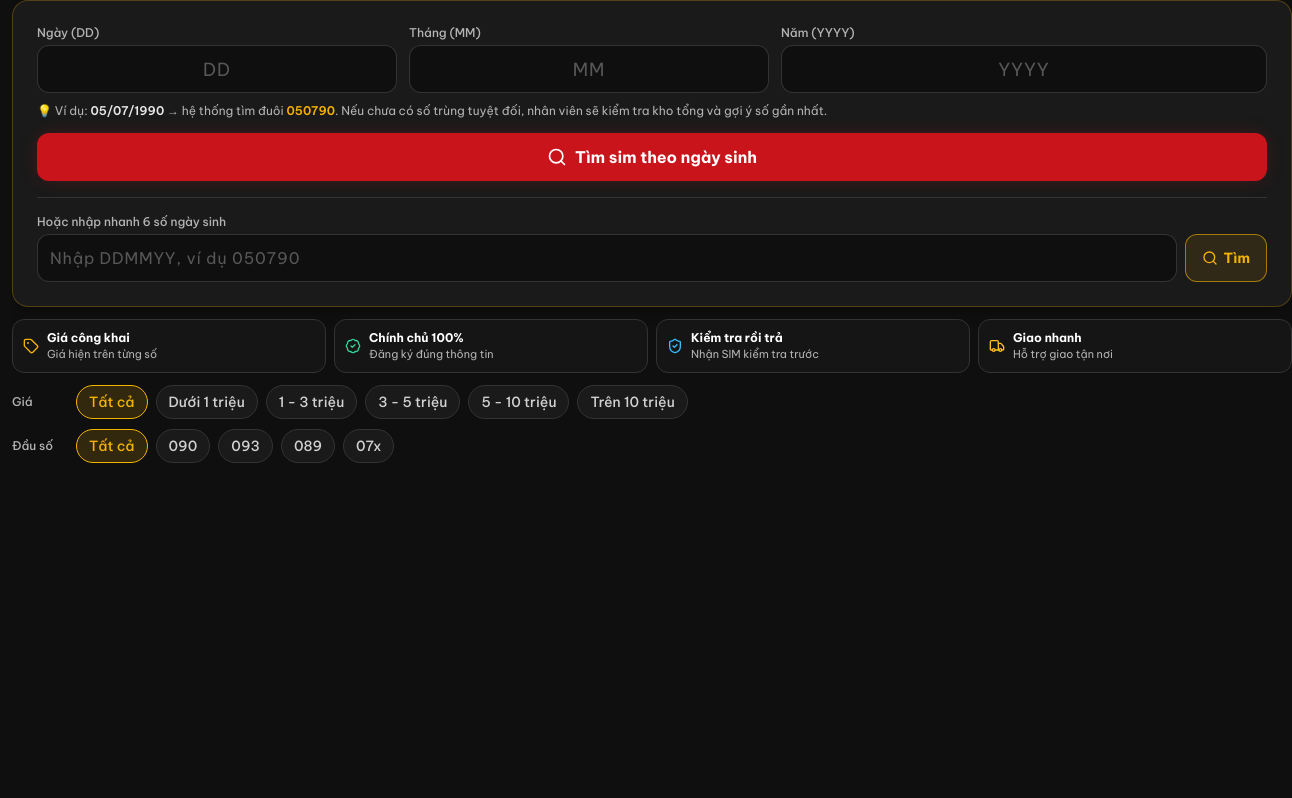
Test: SimNgaySinhFinder — landing /sim-ngay-thang-nam-sinh › không có exact → câu gợi ý; không có gì → CTA Zalo; lỗi mạng → nút Thử lại
The width and height of the screenshot is (1292, 798).
Type "010805" into the field with placeholder "Nhập DDMMYY, ví dụ 050790". click: [607, 258]
box: [37,234,1177,282]
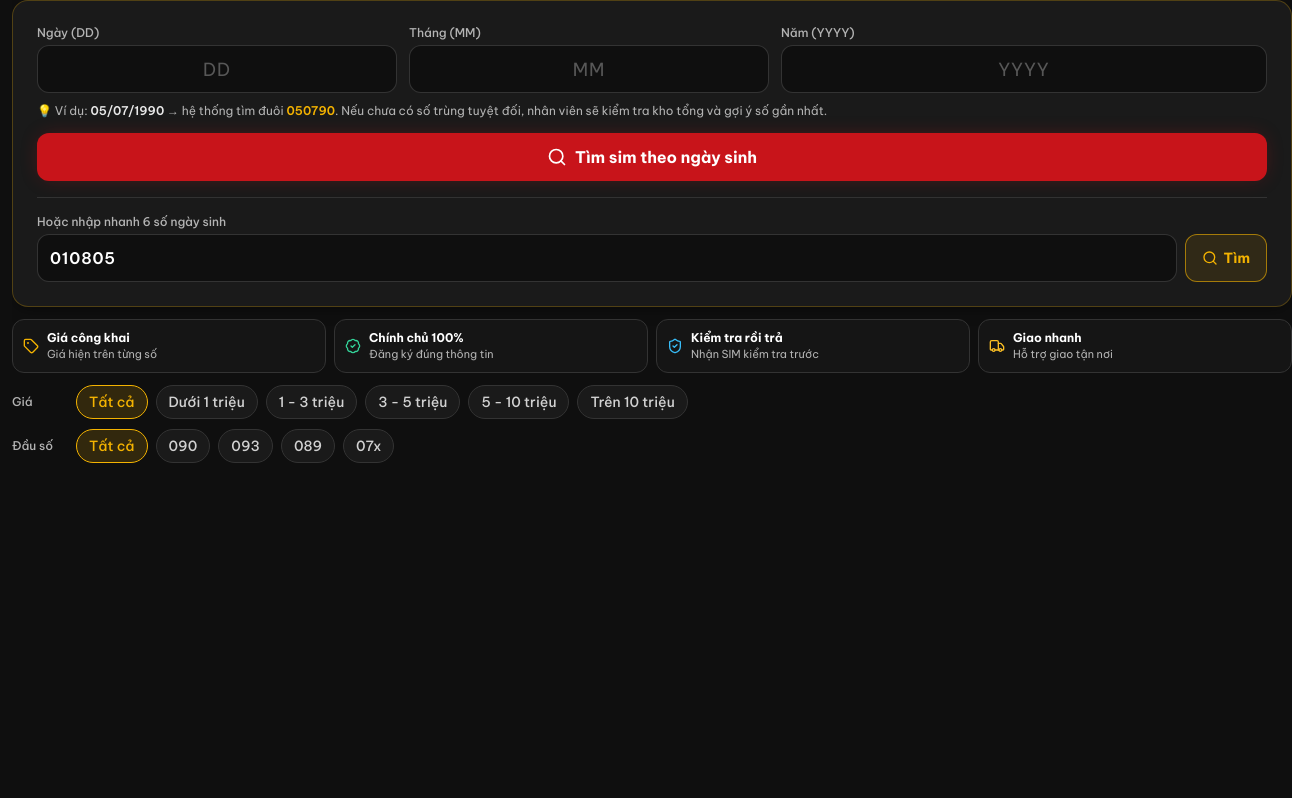
Click the button "Tìm". click: [1226, 258]
box: [1185,234,1267,282]
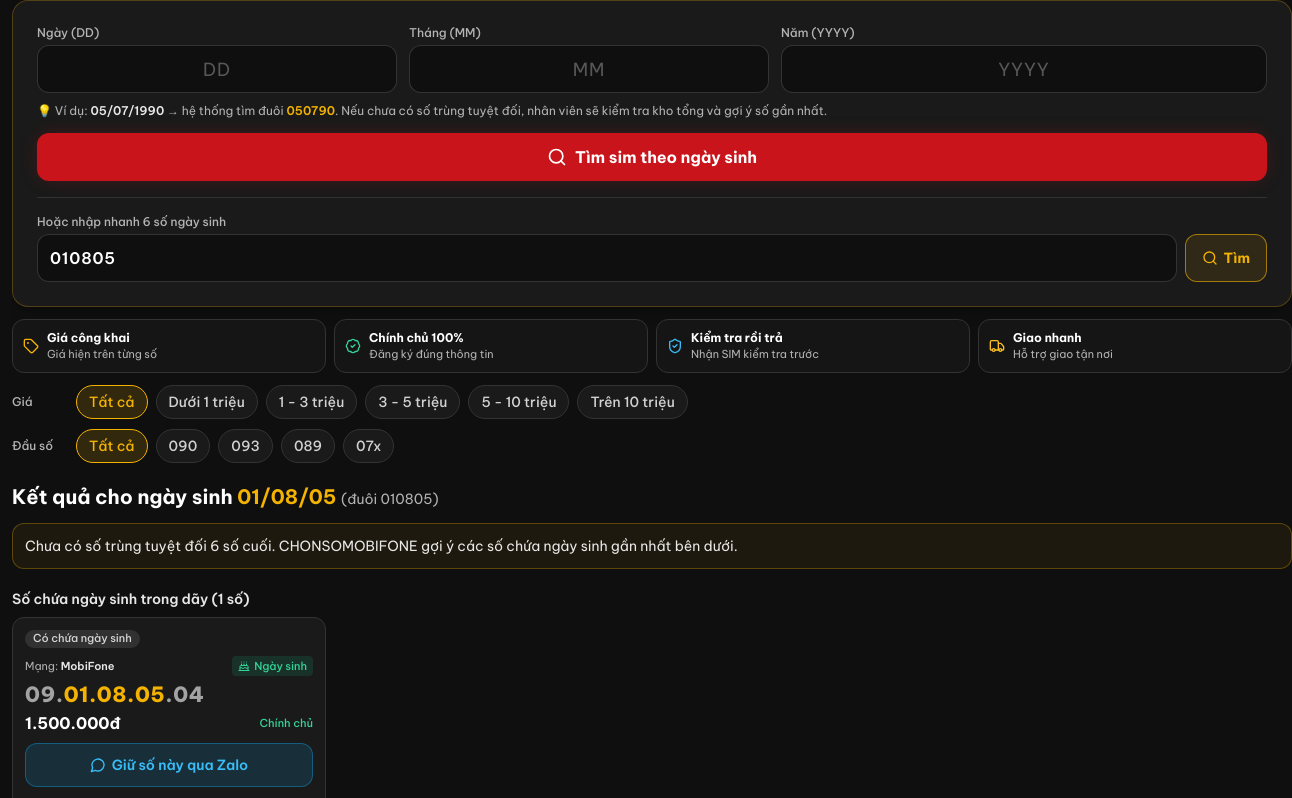
Expected: the text "Chưa có số trùng tuyệt đối 6 số cuối. CHONSOMOBIFONE gợi ý các số chứa ngày sinh gần nhất bên dưới." is shown, [25,537,738,555]
Click the button "Tìm". click: [1226, 258]
box: [1185,234,1267,282]
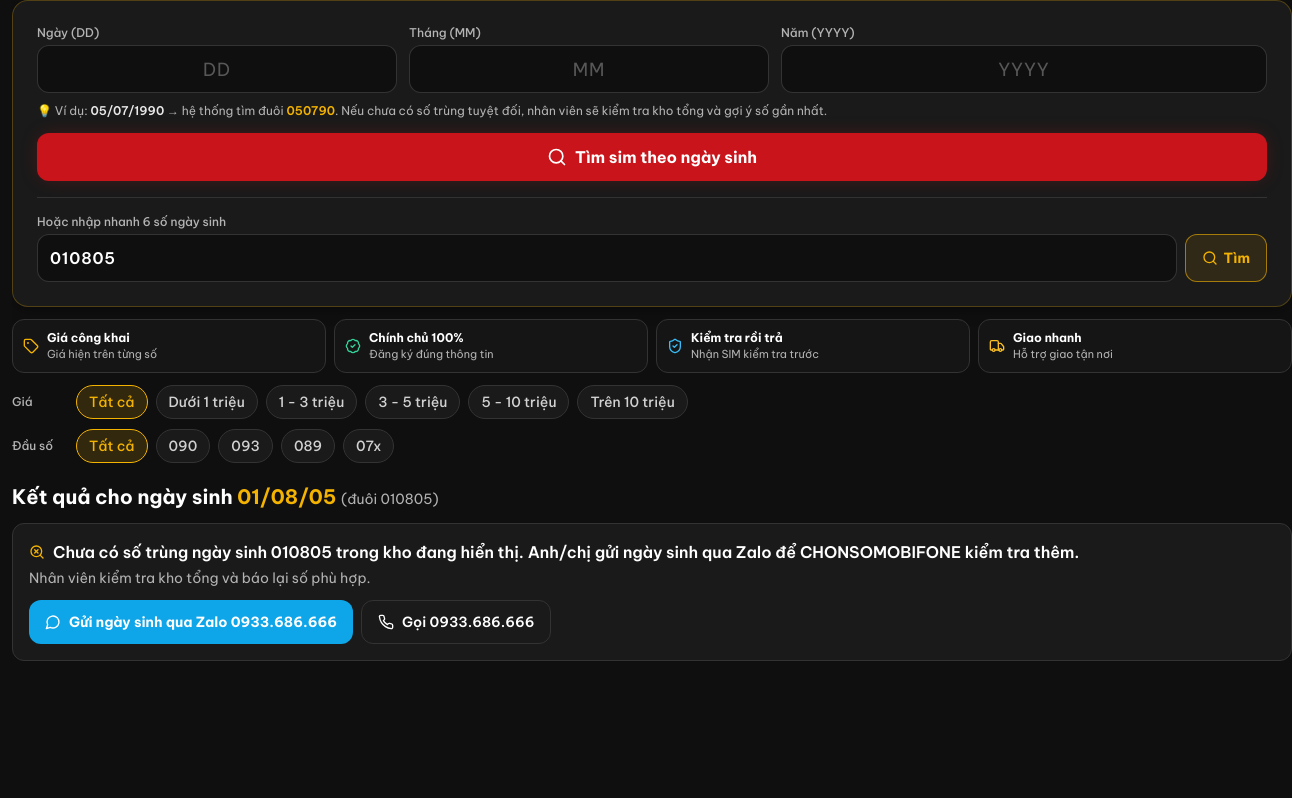
Expected: the text "Chưa có số trùng ngày sinh 010805 trong kho đang hiển thị. Anh/chị gửi ngày sinh qua Zalo để CHONSOMOBIFONE kiểm tra thê" is shown, [29,542,1079,562]
Click the button "Tìm". click: [1226, 258]
box: [1185,234,1267,282]
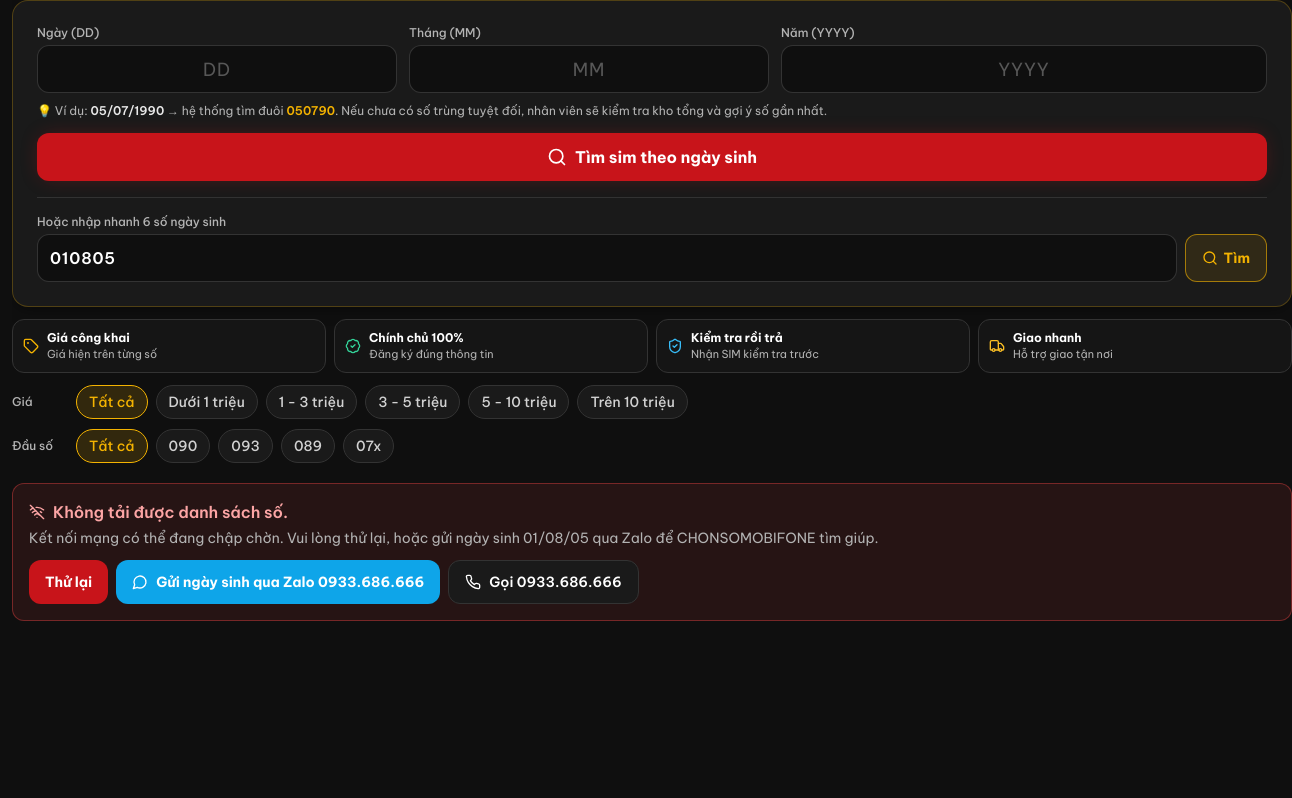
Expected: the button "Thử lại" is shown, [29,560,108,604]
